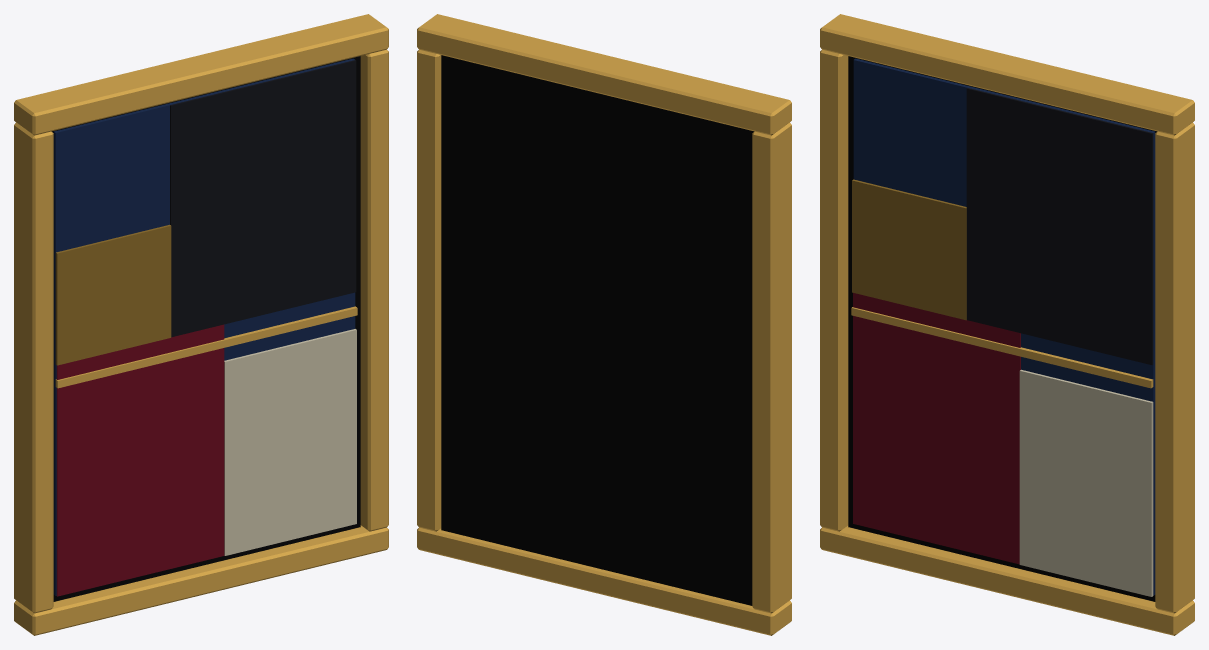
The model's file is painting_wall.glb.
The picture shows the model from 3 angles, left to right: view 1: azimuth 30°, elevation 25°; view 2: azimuth 150°, elevation 25°; view 3: azimuth 330°, elevation 25°; orthographic projection.
Visible parts, largest first — view 1: painting_wall; view 2: painting_wall; view 3: painting_wall.
Boxes of the visible parts, box(x1,y1,x2,y2) form: painting_wall: box(14, 14, 388, 635); painting_wall: box(417, 14, 791, 635); painting_wall: box(820, 14, 1194, 635).
Bounding box in the file's own units: 1 × 1.4 × 0.1.
